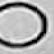no answer: (0, 2, 50, 48)
